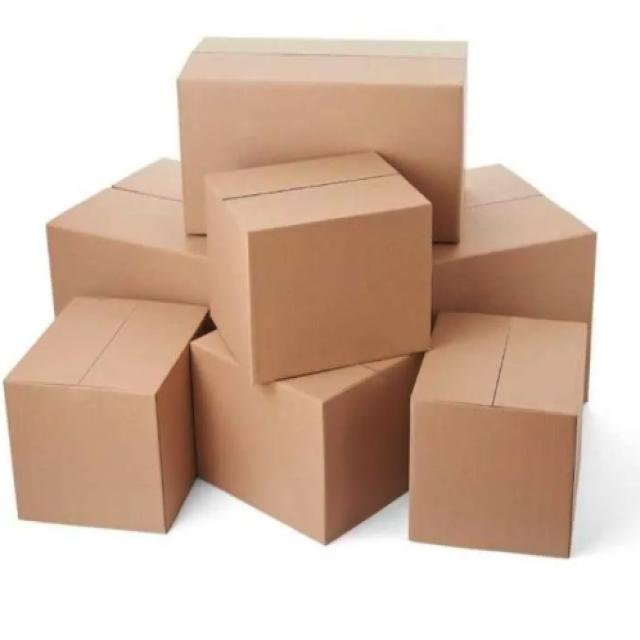Kardus: (1, 36, 598, 556), (175, 35, 468, 244), (203, 149, 433, 385), (1, 293, 208, 534), (406, 307, 589, 558)
